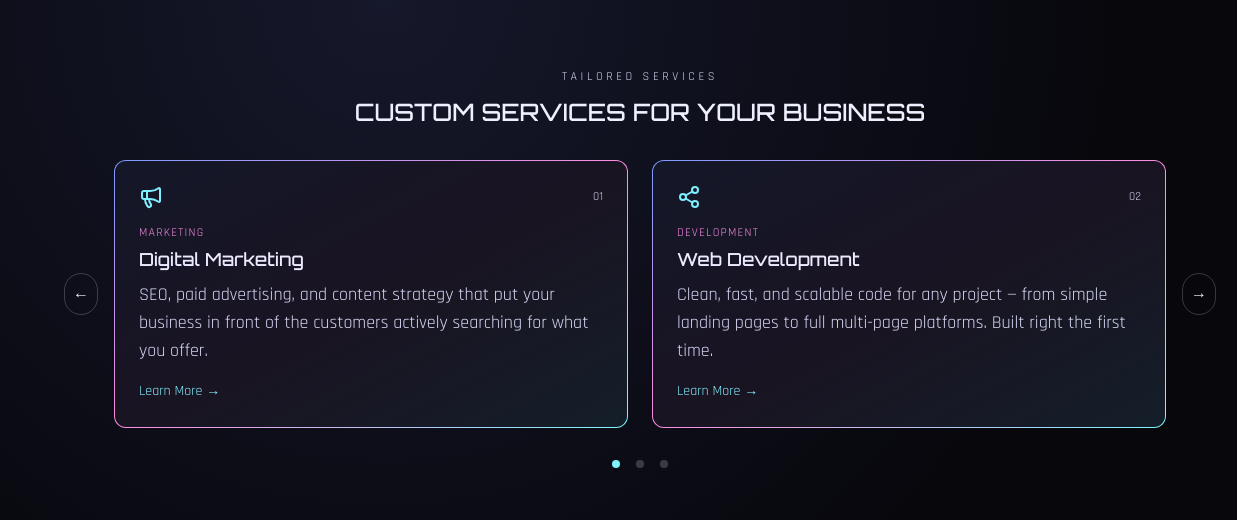
Scenario: clicking Next advances to the next pair of services
Click the button named "Next" at (1199, 294), box x1=1182 y1=273 x2=1216 y2=315
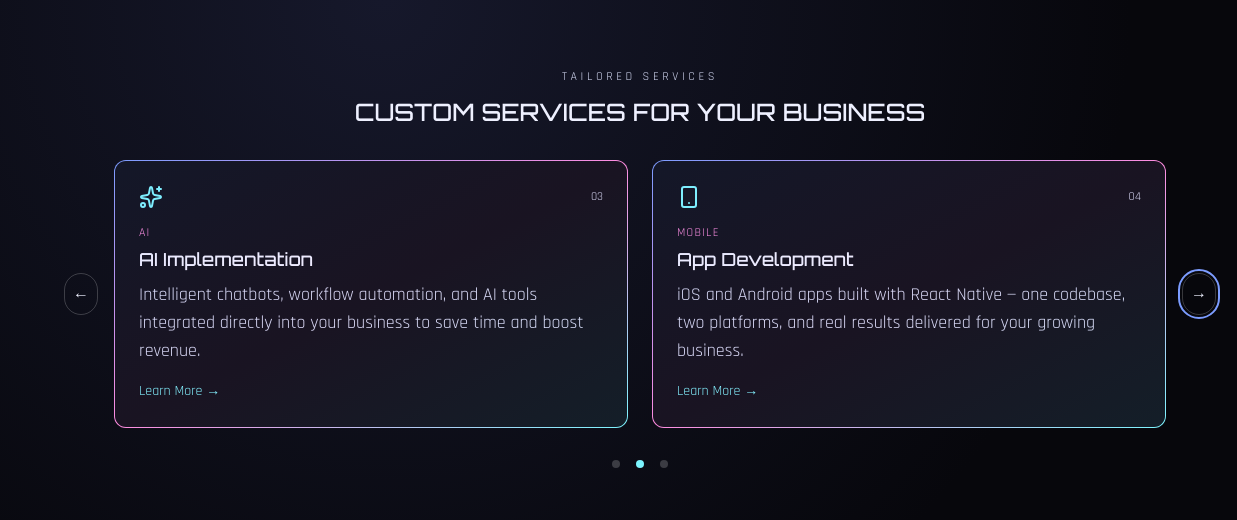
Check: the heading "AI Implementation" is shown, box x1=139 y1=248 x2=313 y2=270
Check: the heading "App Development" is shown, box x1=677 y1=248 x2=854 y2=270
